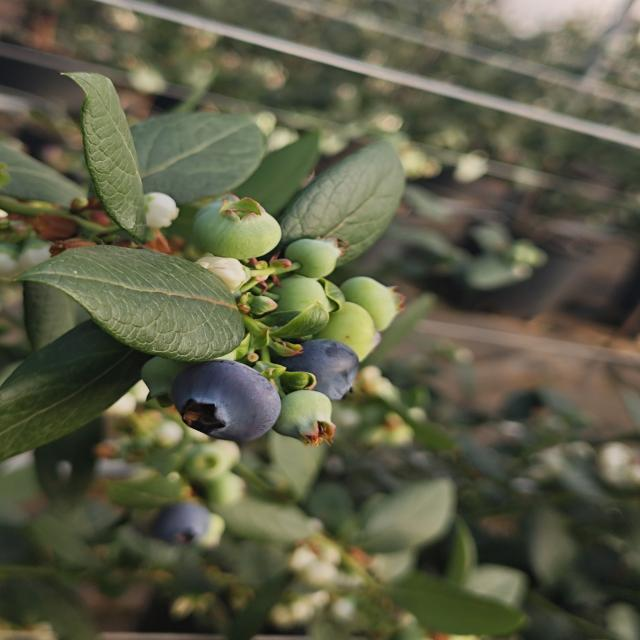ripe: (168, 358, 284, 444), (292, 334, 366, 397), (140, 490, 217, 546)
